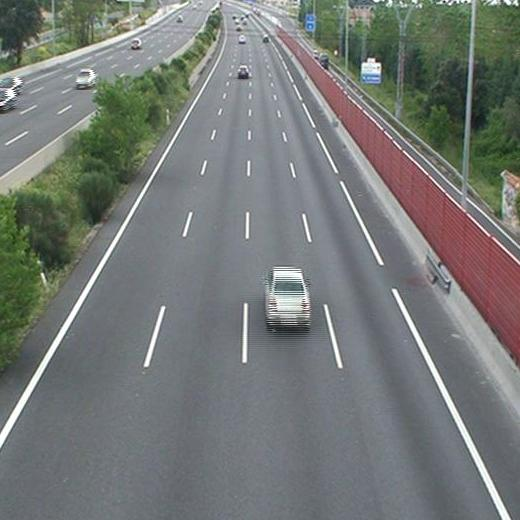car: (263, 268, 310, 326), (237, 65, 248, 78)
